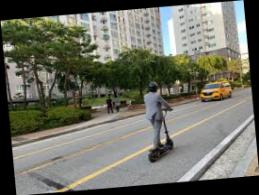helmet: (139, 79, 178, 165)
